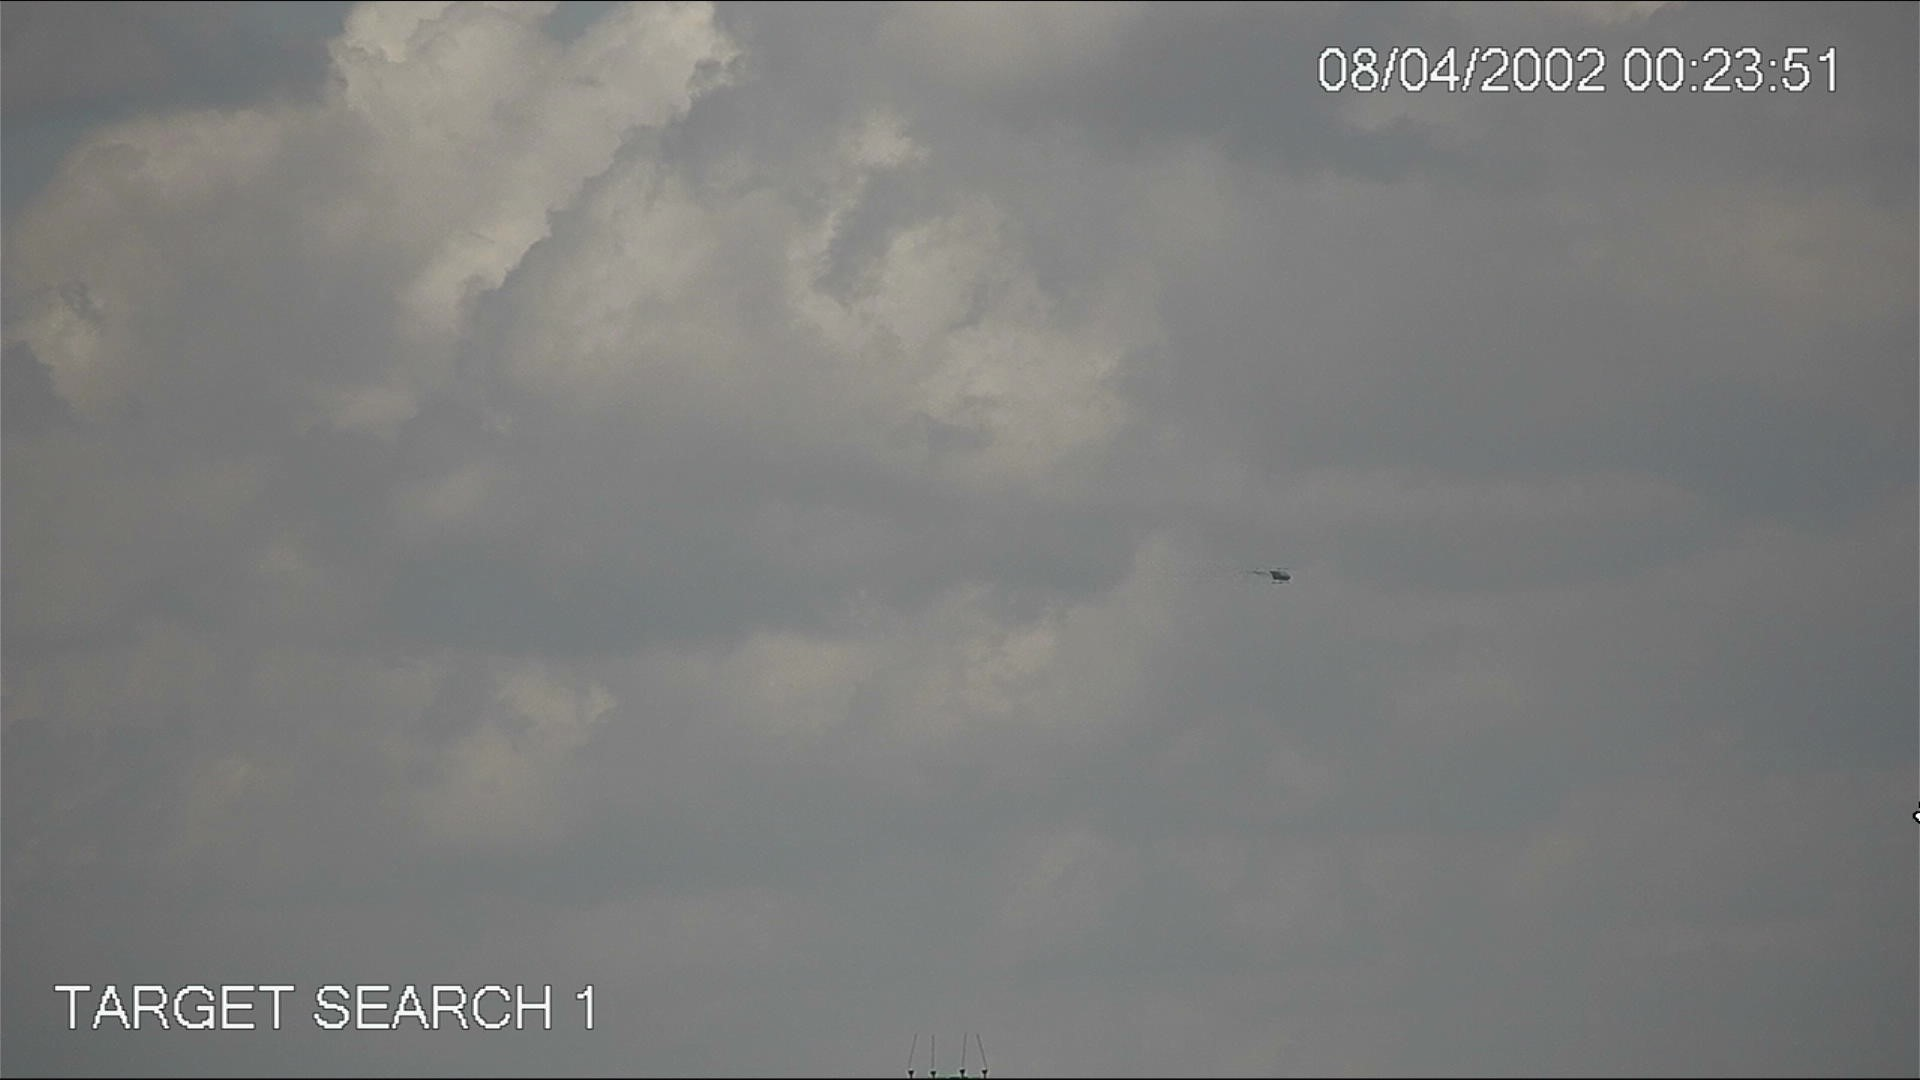SU_30: (1244, 562, 1300, 589)
